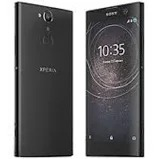sony: (11, 1, 75, 159), (82, 1, 146, 159)
